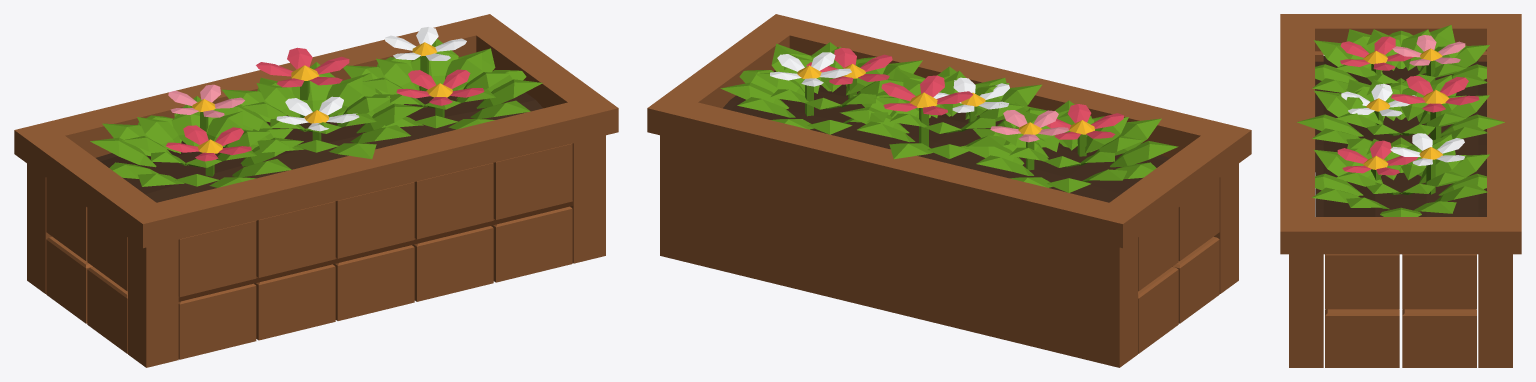
File: planter.fbx
3 renders of one model, left to right at view 1: azimuth 30°, elevation 25°; view 2: azimuth 150°, elevation 25°; view 3: azimuth 270°, elevation 25°, orthographic. The views are drawn at different scales.
Visible parts, largest first — view 1: Planter_Small; view 2: Planter_Small; view 3: Planter_Small.
Boxes of the visible parts, box(x1,y1,x2,y2) form: Planter_Small: box(14, 14, 618, 367); Planter_Small: box(647, 14, 1251, 367); Planter_Small: box(1280, 14, 1521, 367).
Size of the model in its own units: 207 by 78.08 by 97.
